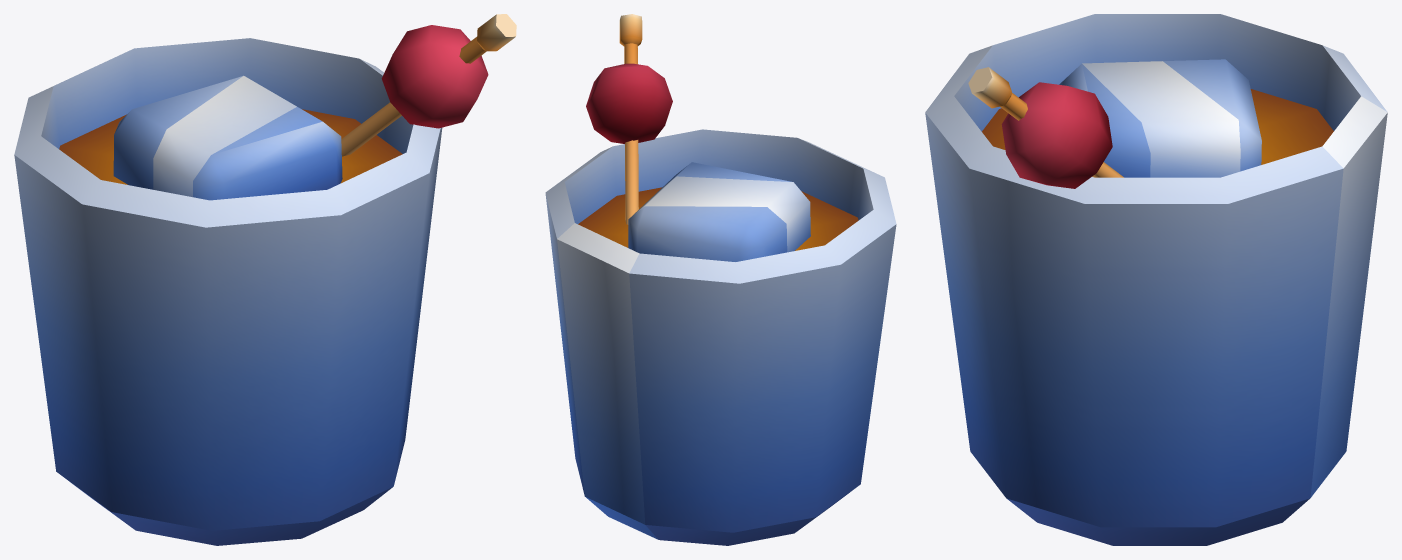
File: m_OldFashioned01.fbx
3 views of the same model, side by side, from view 1: azimuth 30°, elevation 25°; view 2: azimuth 150°, elevation 25°; view 3: azimuth 270°, elevation 25° (orthographic). The views are drawn at different scales.
Visible parts, largest first — view 1: m_OldFashioned01; view 2: m_OldFashioned01; view 3: m_OldFashioned01.
Boxes of the visible parts, x1,y1,x2,y2 form: m_OldFashioned01: (14, 14, 516, 545); m_OldFashioned01: (545, 14, 896, 545); m_OldFashioned01: (925, 14, 1387, 545).
Bounding box in the file's own units: 13.2 × 15.86 × 12.98.
